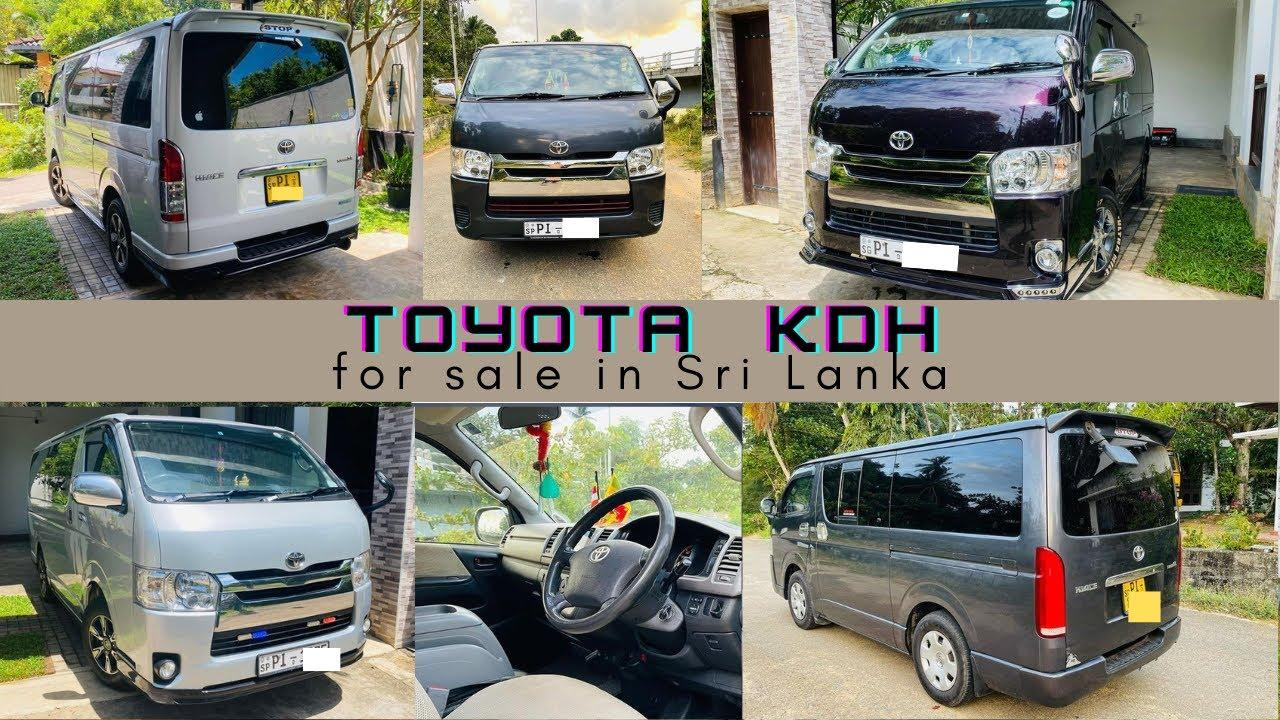van: (761, 409, 1183, 708), (27, 414, 395, 708), (800, 1, 1155, 298), (30, 8, 366, 291), (433, 41, 681, 241)
